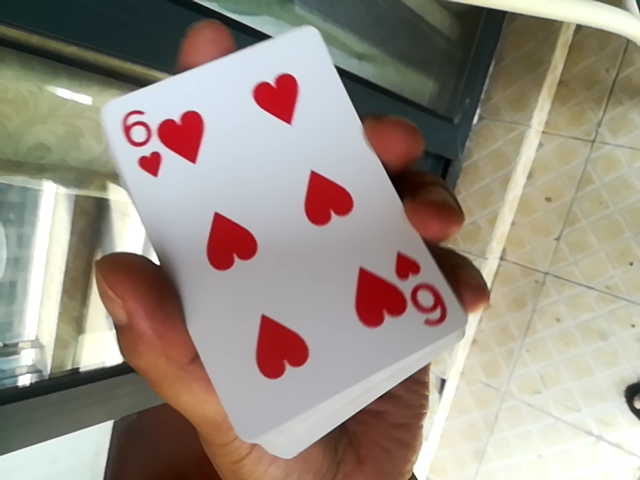hx 6: (88, 26, 439, 453)
